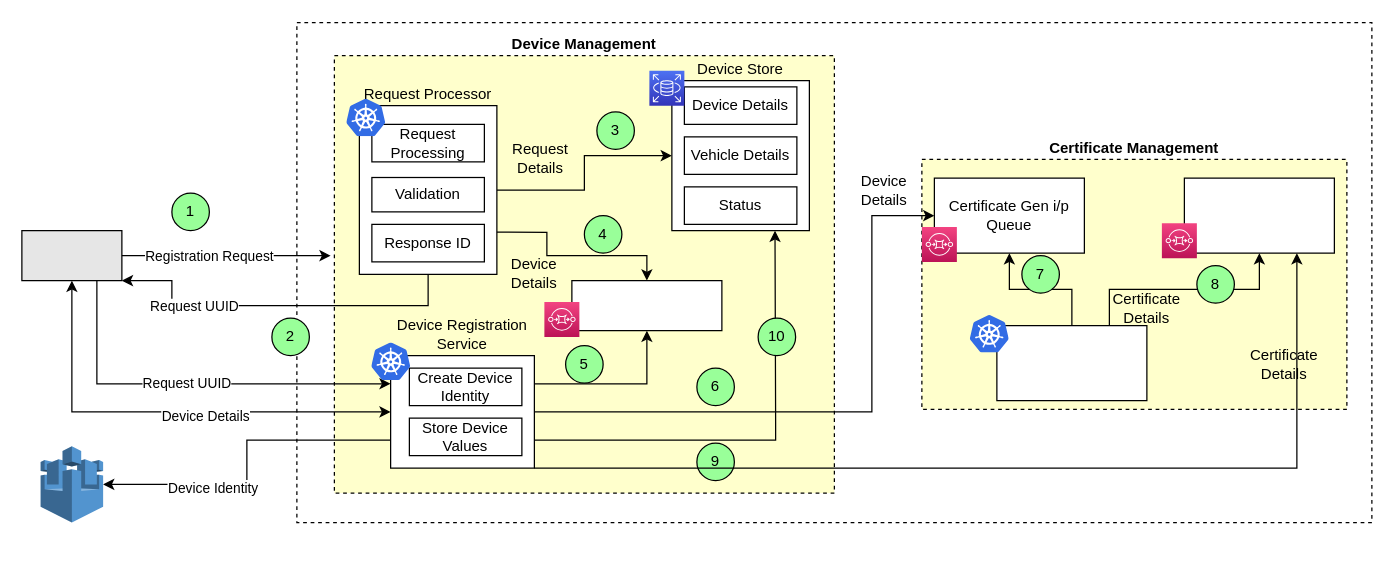
This 1394x570 diagram has some shape labels left out. Each missing label, with the centre of its shape:
AWS IoT: point 71,483
Certificate Gen o/p Queue: point 1258,215
Certificate Generator (Cloud Specific End Point - DEV): point 1071,362
Device Registration i/p Queue: point 646,305
Tier 1/OEM Interface: point 71,255
